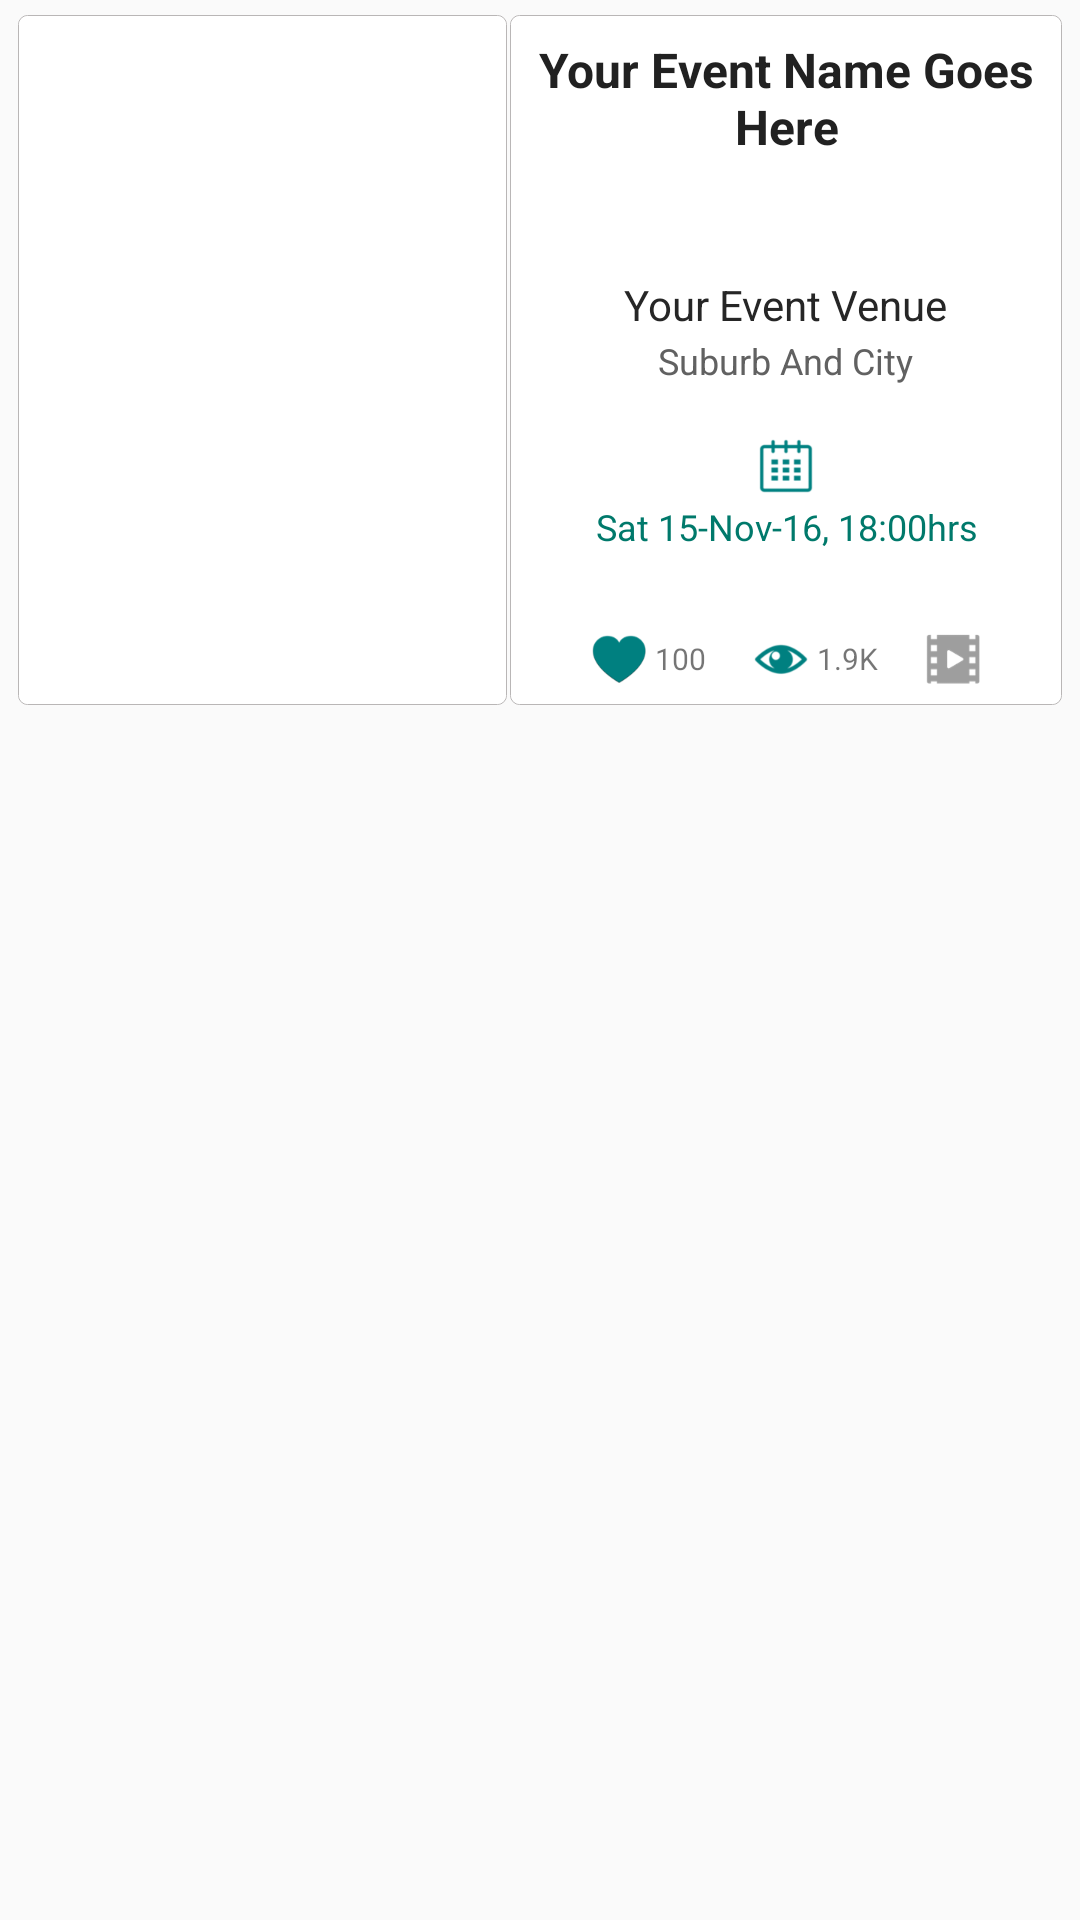

Screen size 1080*1920. Icon name, then its box in pixels as region(x1, y1, x2, y2):
date: region(760, 440, 813, 493)
heart: region(592, 635, 646, 683)
video: region(927, 635, 980, 684)
view: region(755, 644, 808, 674)
